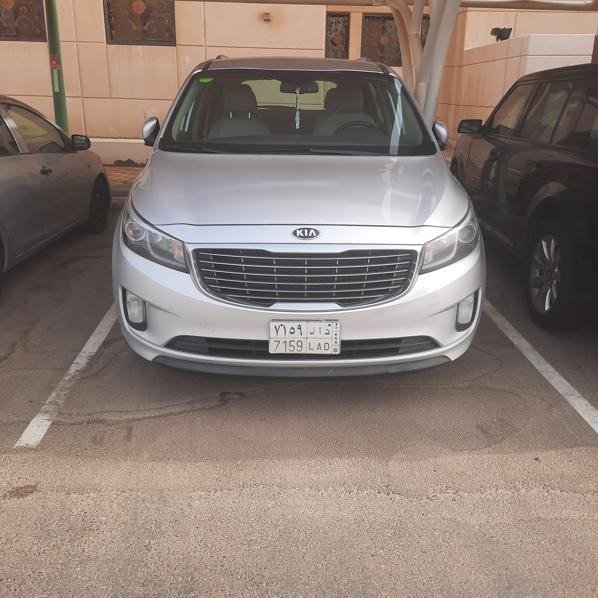numberplate: (269, 320, 338, 353)
